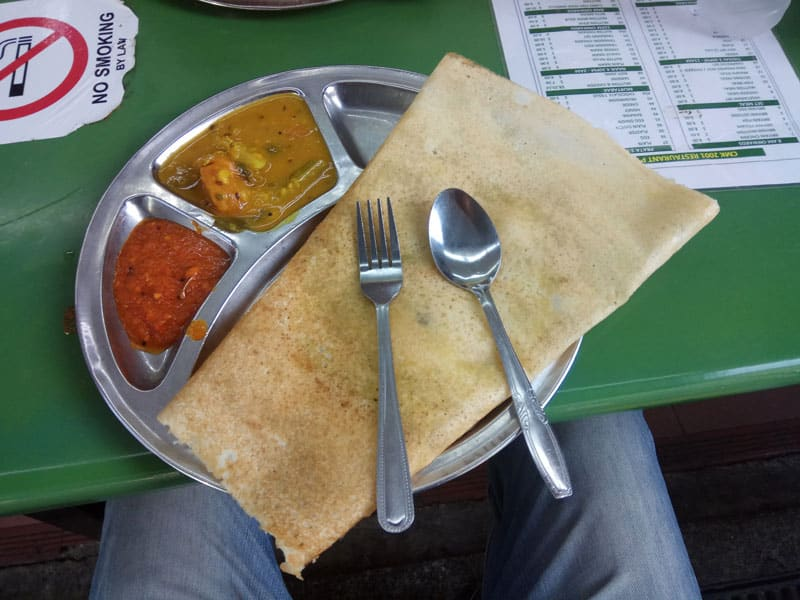dosa: (163, 51, 722, 579)
